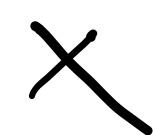mult: (29, 21, 153, 135)
